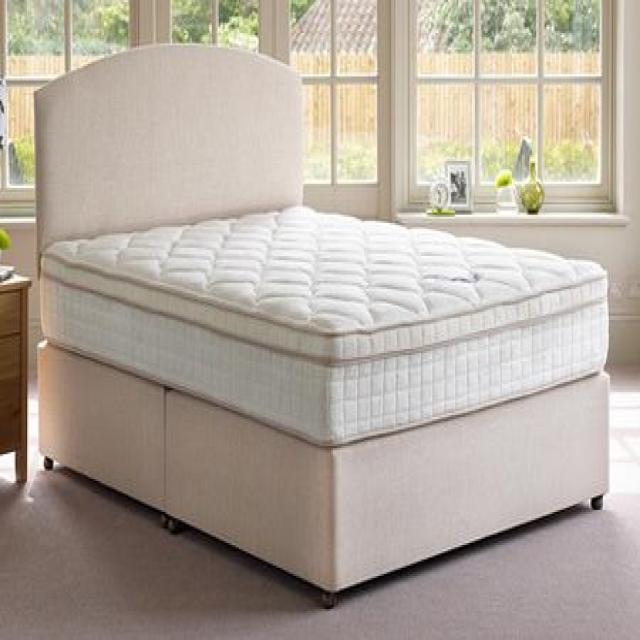bed: (32, 44, 612, 608)
